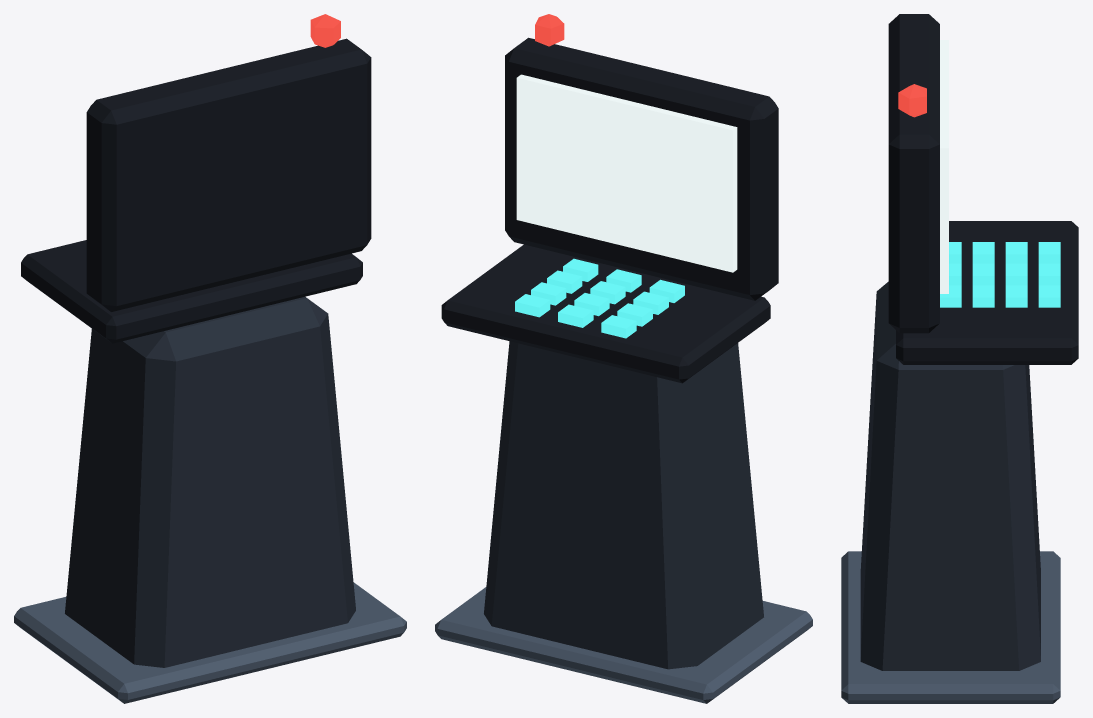
Rendered from Mono_Terminal.fbx.
3 renders of one model, left to right at view 1: azimuth 30°, elevation 25°; view 2: azimuth 150°, elevation 25°; view 3: azimuth 270°, elevation 25°, orthographic. The views are drawn at different scales.
Parts seen in each view (by area): view 1: Mono_Terminal; view 2: Mono_Terminal; view 3: Mono_Terminal.
Boxes of the visible parts, x1=… form: Mono_Terminal: x1=14, y1=14, x2=406, y2=703; Mono_Terminal: x1=435, y1=14, x2=812, y2=703; Mono_Terminal: x1=841, y1=14, x2=1078, y2=703.
Bounding box in the file's own units: 0.9 × 0.65 × 1.81.
